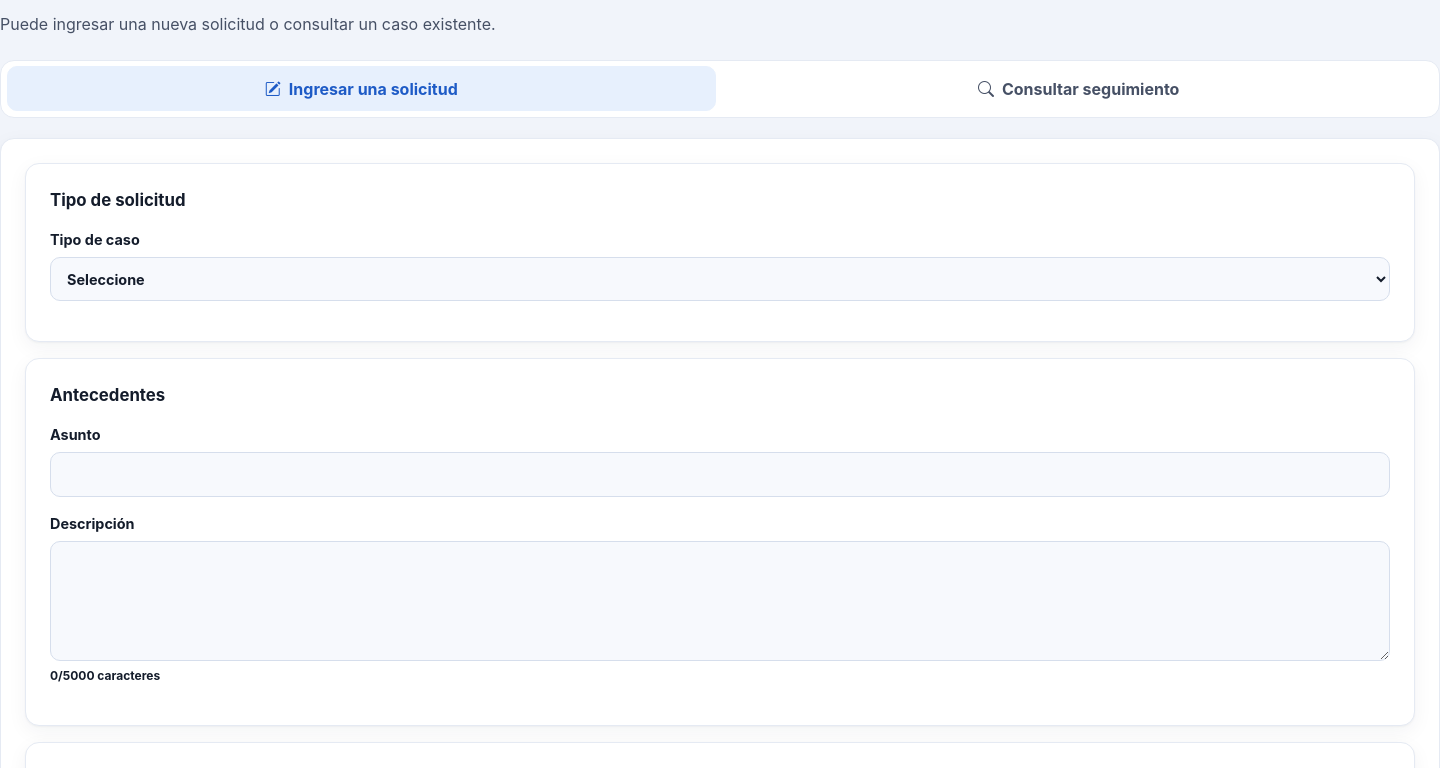
Test: OirsPage - public › impide mensajes vacíos y en casos cerrados o cancelados
This screenshot has width=1440, height=768.
Click the tab "Consultar seguimiento": (1079, 89) top-left (724, 66), bottom-right (1433, 111)
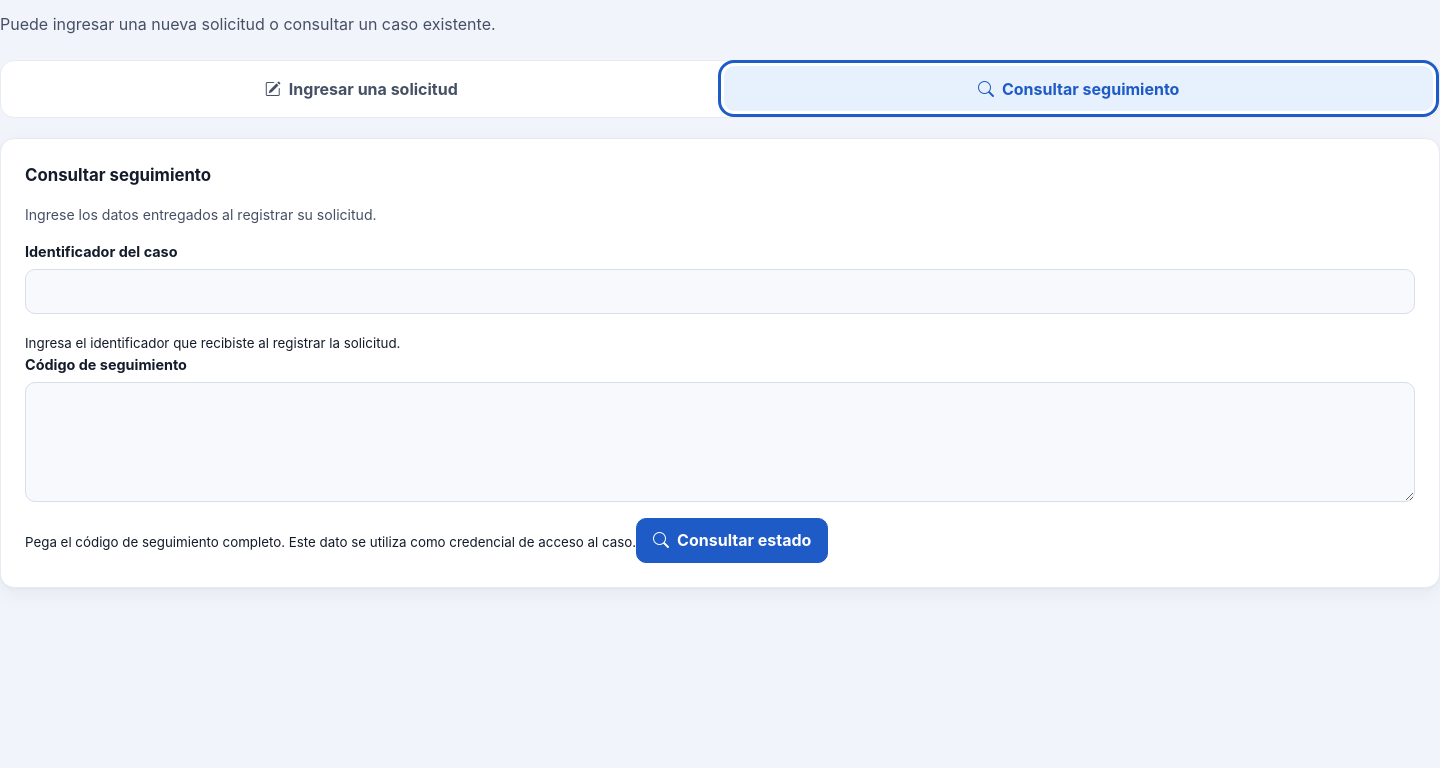
In the field labelled "Identificador del caso": (720, 292) top-left (25, 269), bottom-right (1415, 314), type "a0000000-0000-4000-8000-000000000001"
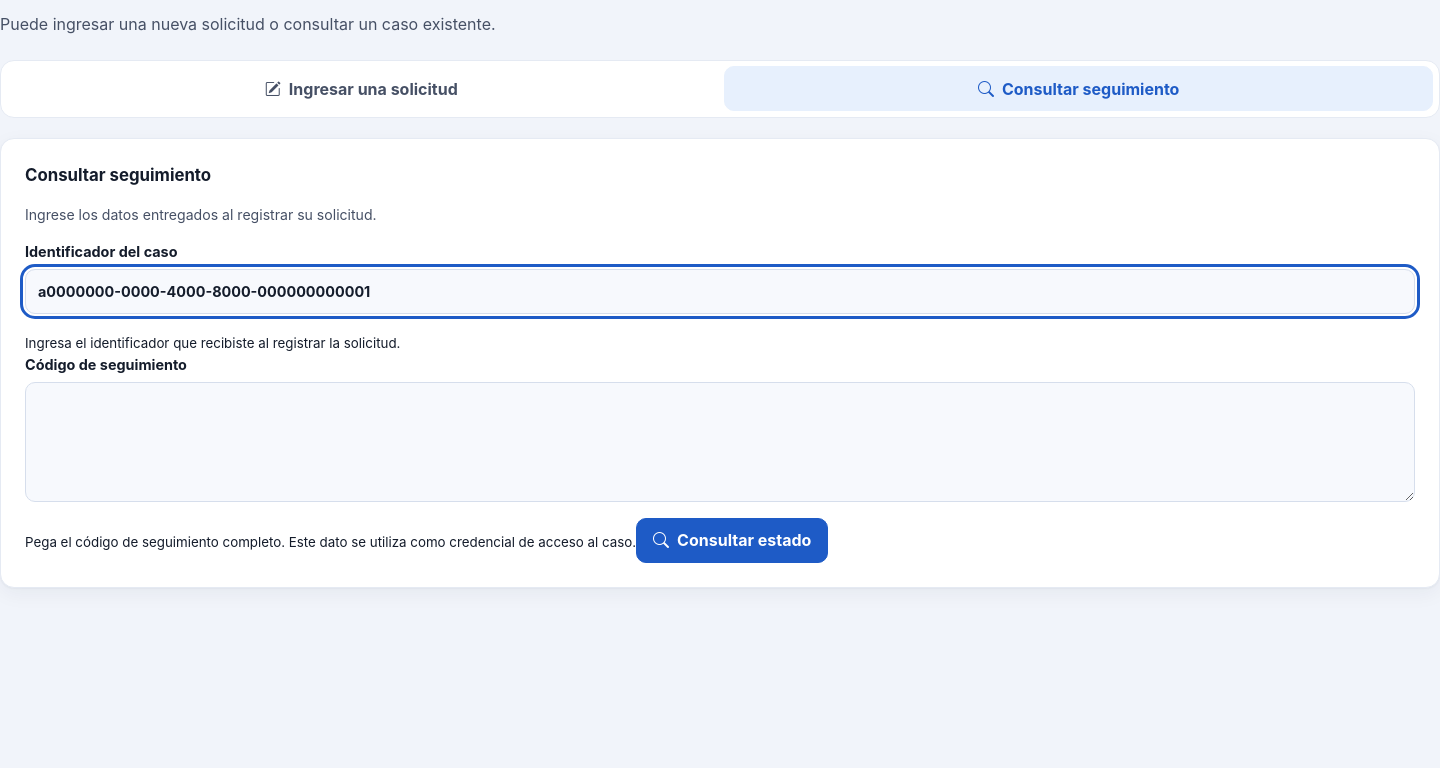
In the text box labelled "Código de seguimiento": (720, 442) top-left (25, 382), bottom-right (1415, 502), type "tracking-token"
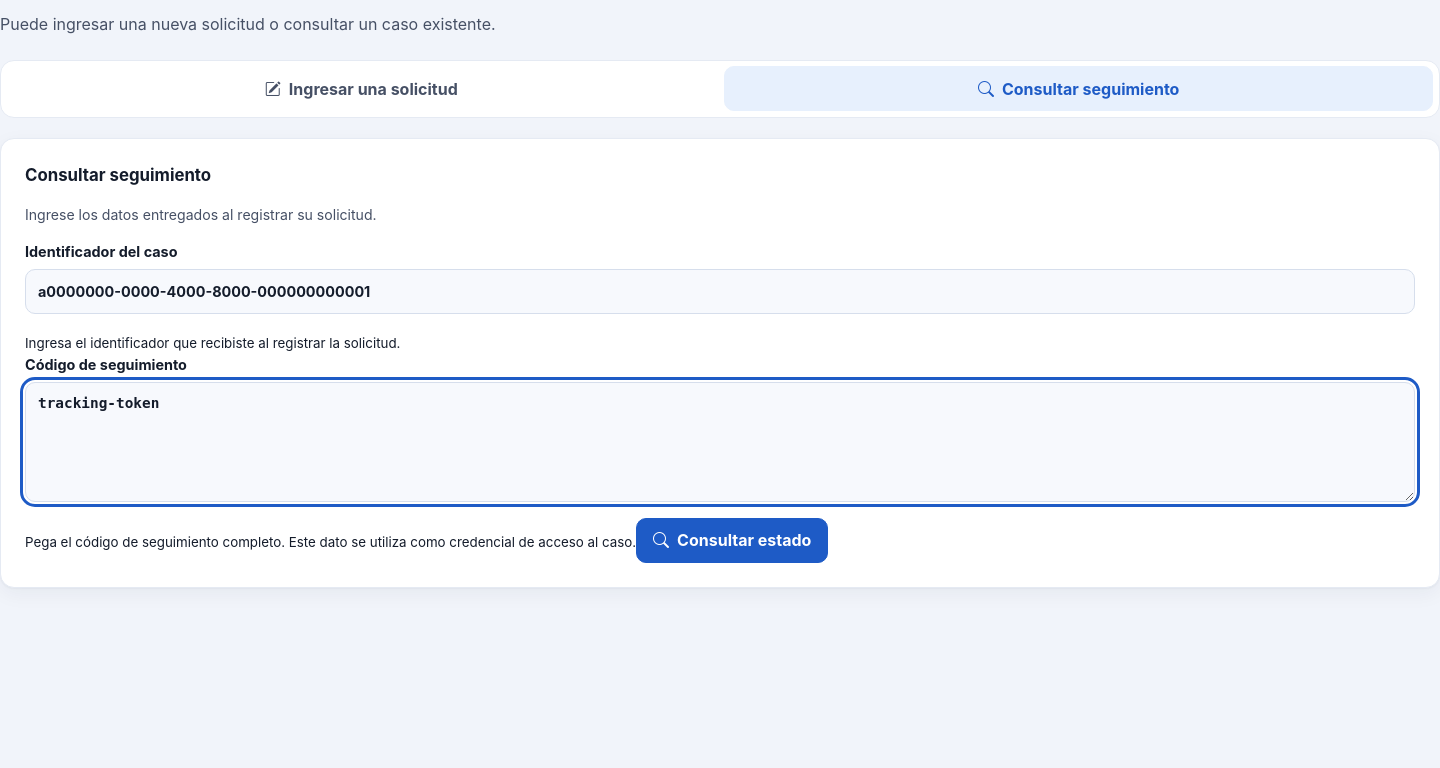
Click the button "Consultar estado": (732, 540) top-left (636, 518), bottom-right (828, 563)
(page scrolled)
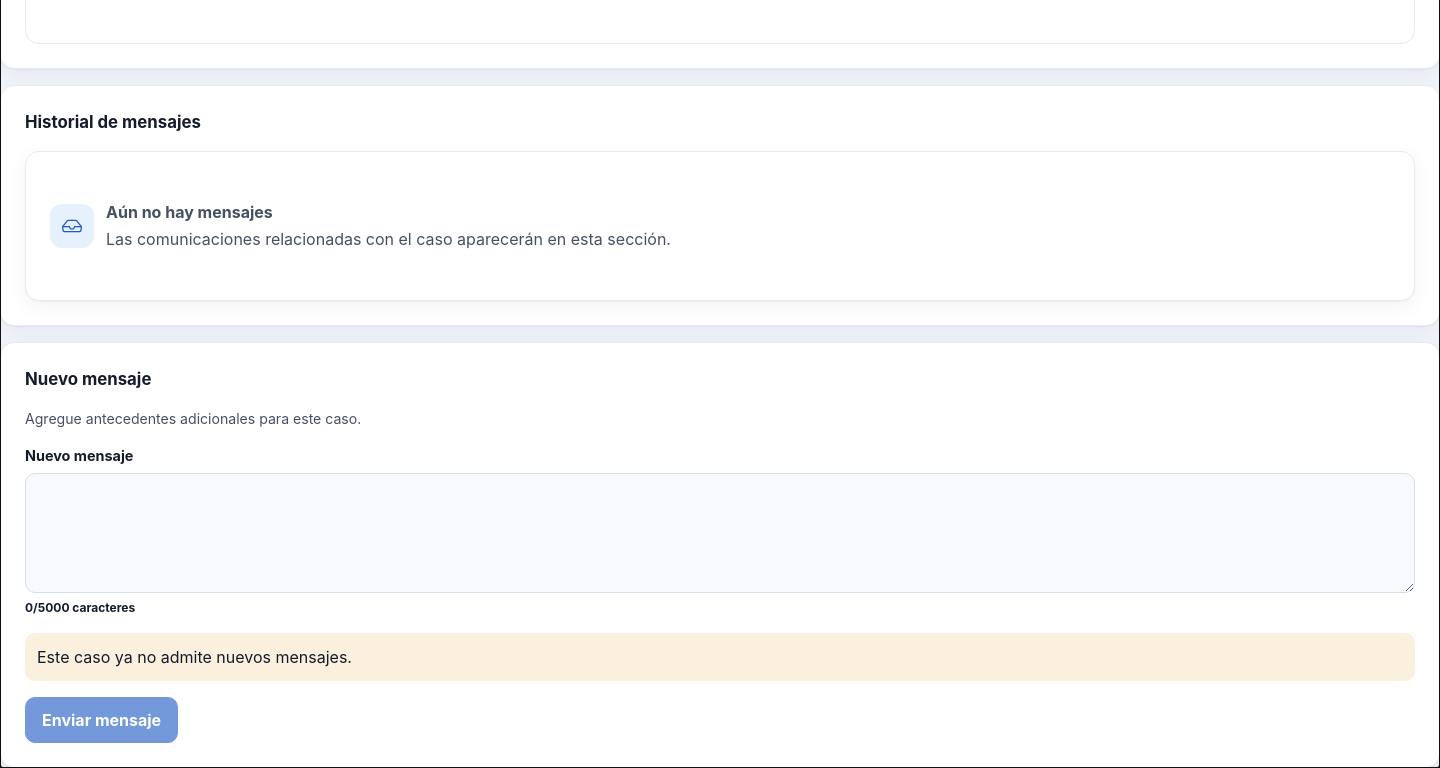
Expected: the text "Este caso ya no admite nuevos mensajes." is shown, top-left (25, 634), bottom-right (1415, 682)
Expected: the text box labelled "Nuevo mensaje" is disabled, top-left (25, 473), bottom-right (1415, 593)
Expected: the button "Enviar mensaje" is disabled, top-left (25, 698), bottom-right (178, 743)
